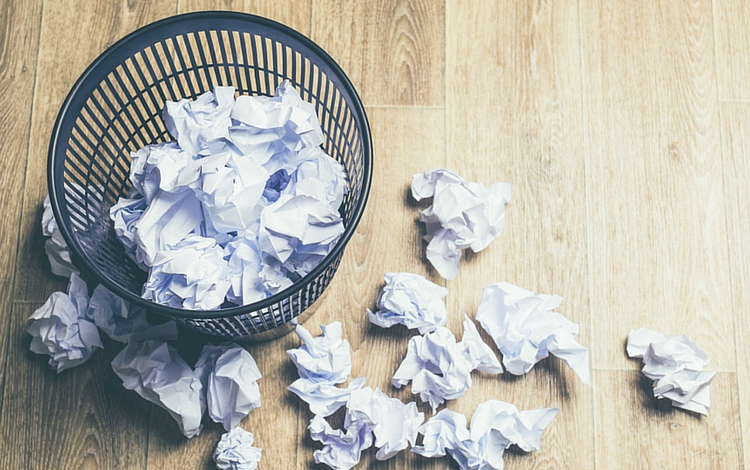paper: (475, 280, 602, 391), (407, 165, 516, 279), (415, 394, 565, 470), (622, 320, 719, 427), (110, 337, 211, 436), (394, 312, 500, 403), (21, 286, 102, 372), (36, 177, 103, 277), (194, 336, 271, 423), (360, 268, 452, 336), (280, 317, 357, 387), (206, 424, 275, 470)
